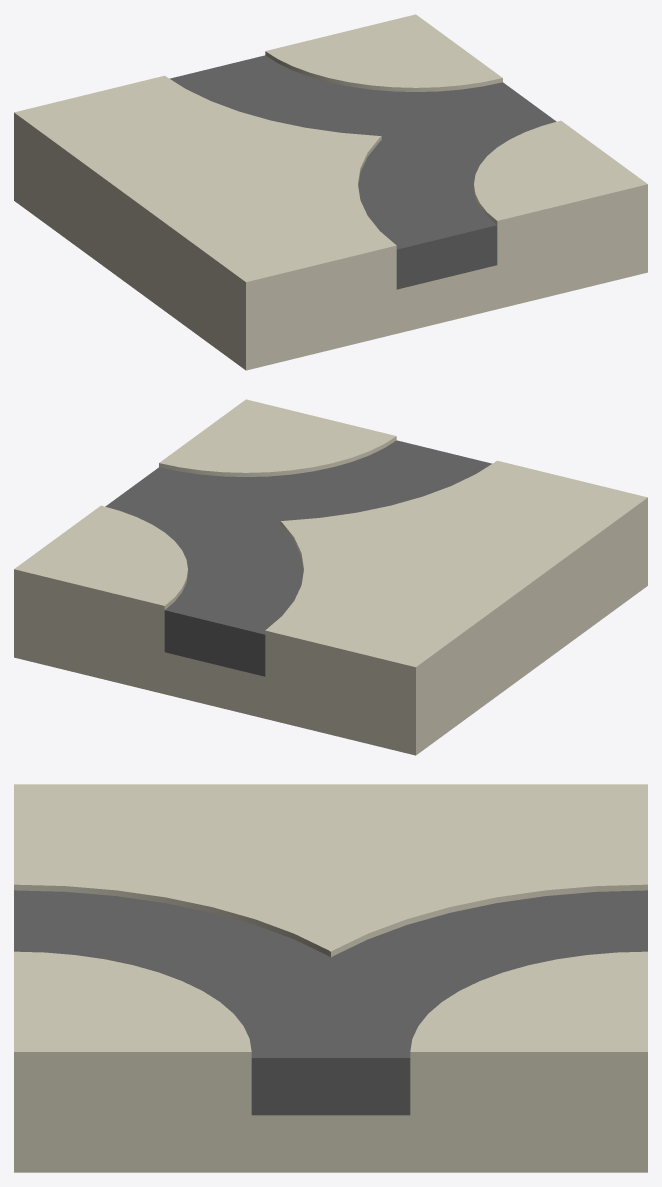
The model's file is tile101.dae.
3 views of the same model, one above another, from view 1: azimuth 30°, elevation 25°; view 2: azimuth 150°, elevation 25°; view 3: azimuth 270°, elevation 25° (orthographic). The views are drawn at different scales.
Parts seen in each view (by area): view 1: tile101; view 2: tile101; view 3: tile101.
Part boxes in pixels (box(x1,y1,x2,y2)): tile101: box(14, 14, 647, 370); tile101: box(14, 399, 647, 755); tile101: box(14, 784, 647, 1172).
Bounding box in the file's own units: 1 × 0.21 × 1.
